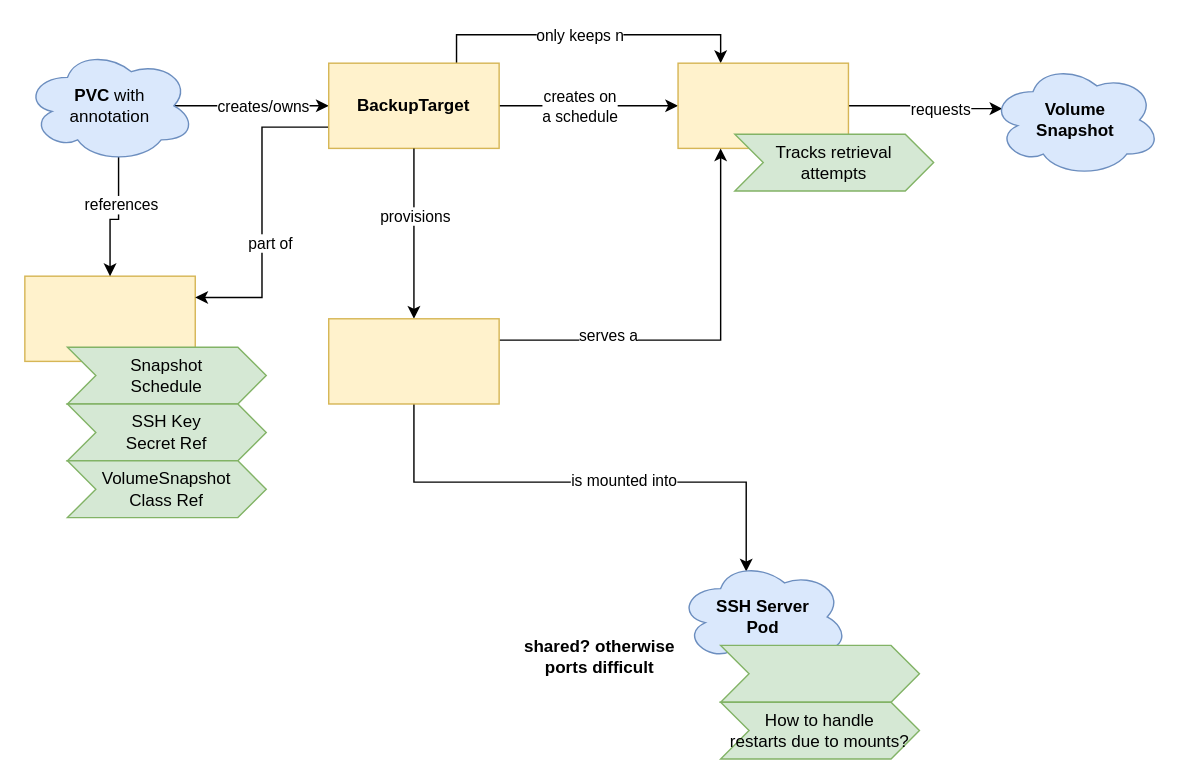
Image size: 1186x784. Some labels were removed from this diagram. Each missing label, with the centre of its shape:
Backup: (762,105)
Backup Endpoint: (413,360)
BackupClass: (109,318)
Mounts endpoints onto filesystem: (819,673)
